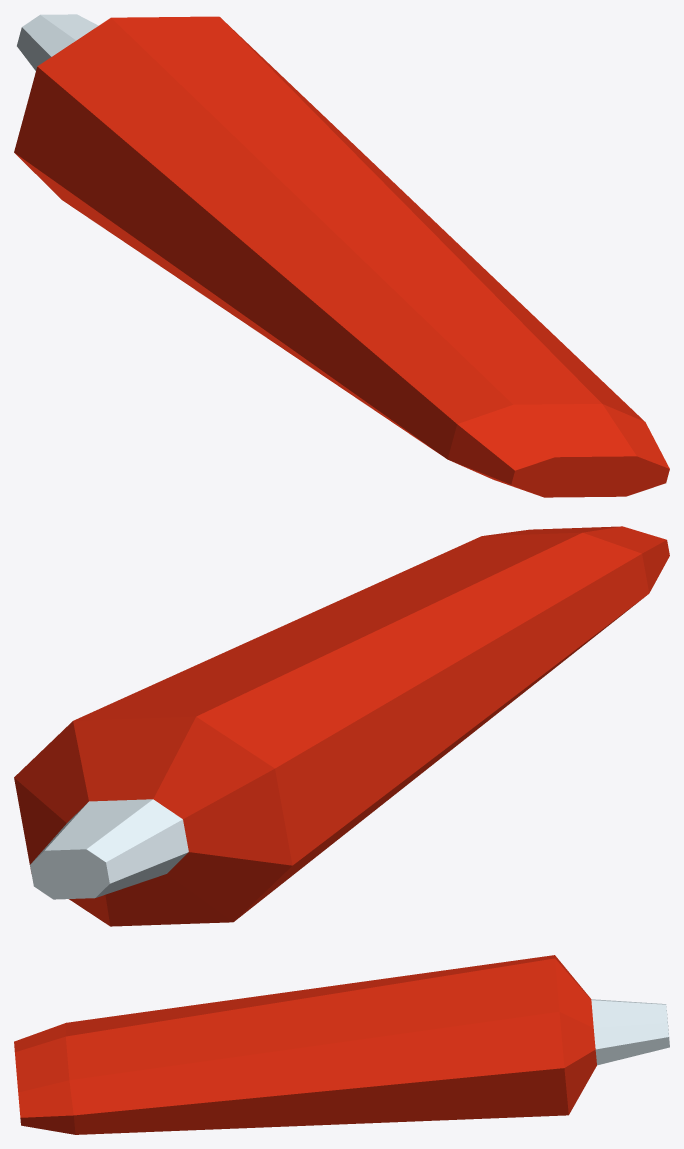
The model's file is Toothpaste.fbx.
3 views of the same model, one above another, from view 1: azimuth 30°, elevation 25°; view 2: azimuth 150°, elevation 25°; view 3: azimuth 270°, elevation 25° (orthographic). The views are drawn at different scales.
Visible parts, largest first — view 1: Toothpaste; view 2: Toothpaste; view 3: Toothpaste.
Boxes of the visible parts, x1,y1,x2,y2 form: Toothpaste: (14,14,669,497); Toothpaste: (14,526,669,926); Toothpaste: (14,955,669,1134).
Size of the model in its own units: 0.0245 by 0.019 by 0.0845.
Materials: 1 (1 with a texture image).
